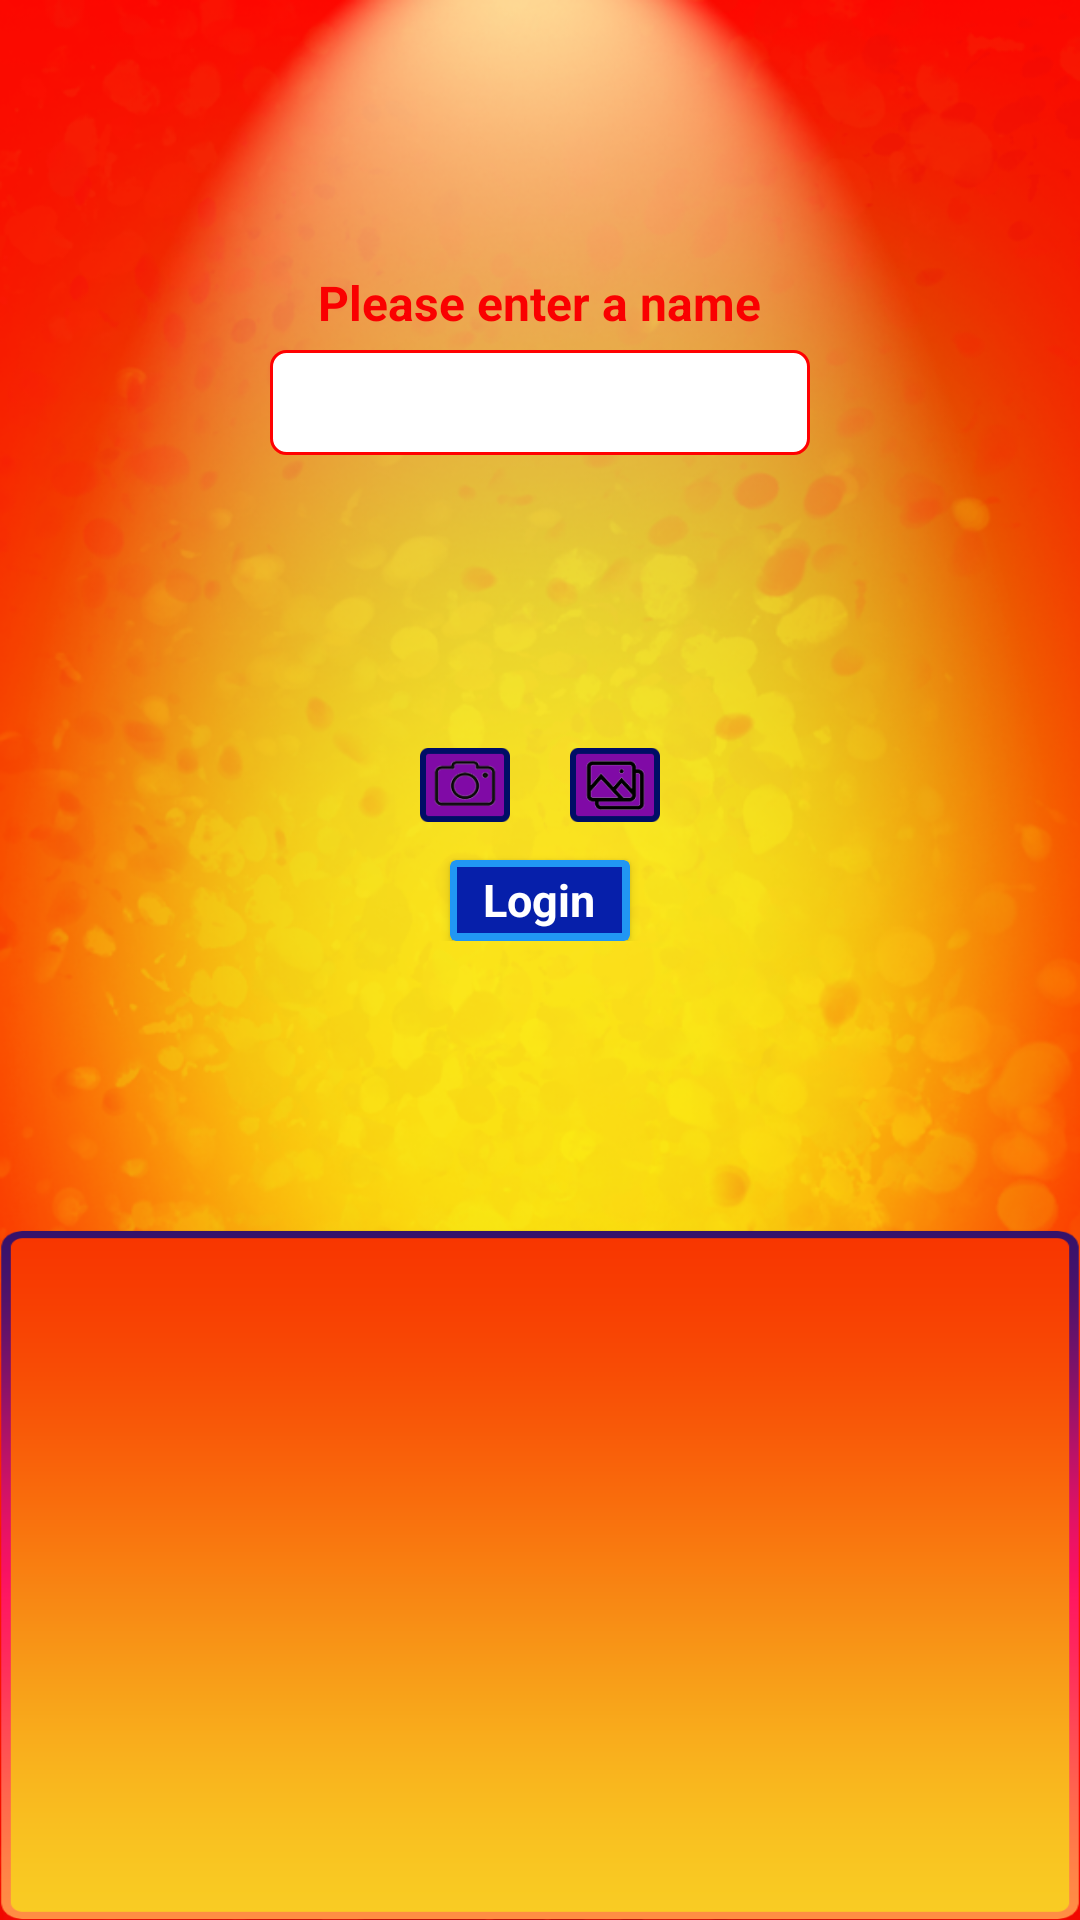

Locate icon controls on the screen. Image size 1080w x 1920h, boxes as bbox=[x1, y1, x2, y2].
cameraa: bbox=[420, 748, 510, 822]
galleryy: bbox=[570, 748, 660, 822]
